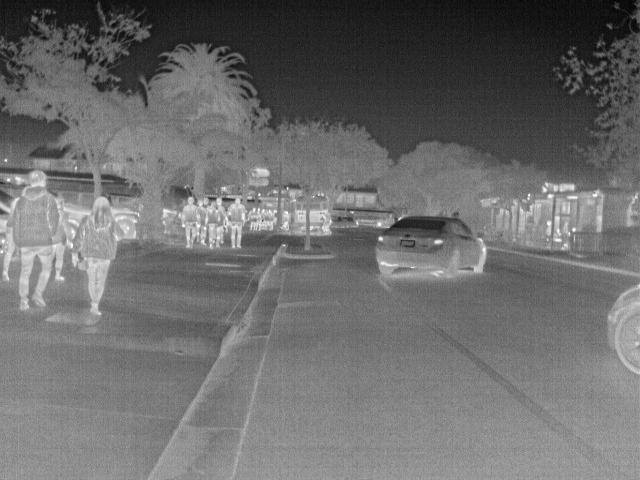car: (376, 212, 490, 277), (604, 284, 640, 379), (109, 206, 140, 240), (333, 214, 361, 235)
person: (9, 170, 62, 310), (75, 194, 123, 315), (52, 195, 76, 282), (178, 196, 199, 248), (228, 196, 248, 247), (203, 198, 221, 248), (561, 220, 574, 250), (553, 213, 565, 243), (279, 208, 294, 230), (212, 196, 228, 216), (544, 219, 554, 239)
